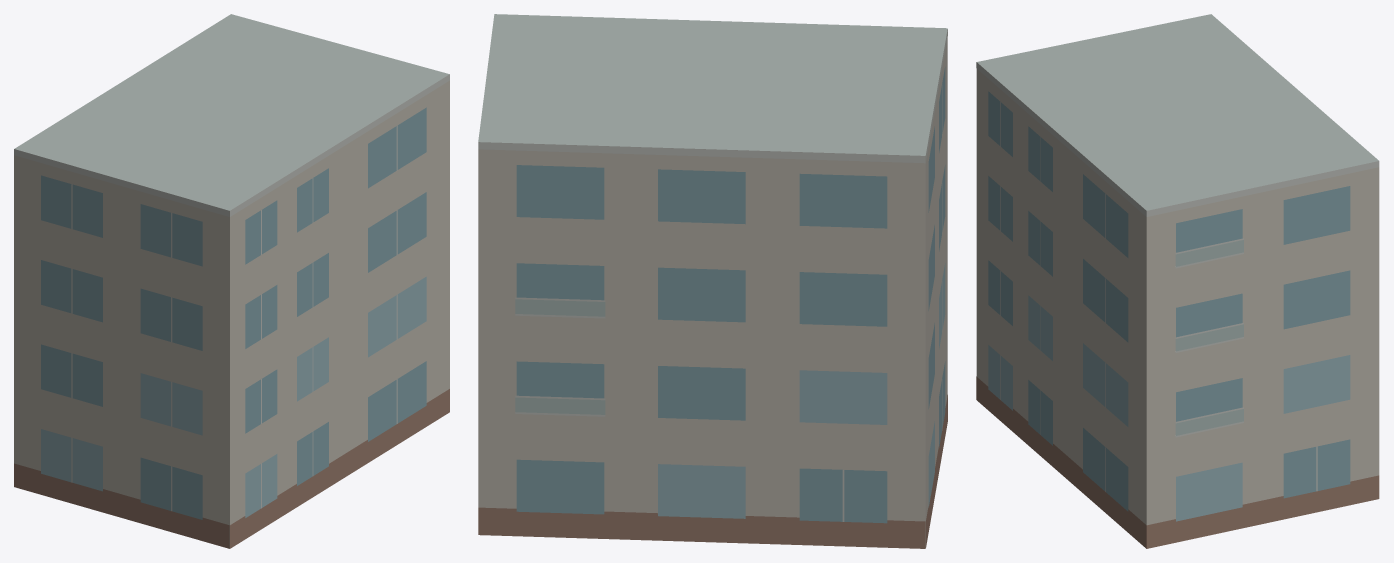
File: survey-upis-32738582.glb
3 renders of one model, left to right at view 1: azimuth 30°, elevation 25°; view 2: azimuth 150°, elevation 25°; view 3: azimuth 270°, elevation 25°, orthographic. The views are drawn at different scales.
Visible parts, largest first — view 1: survey-upis-32738582.tmp; view 2: survey-upis-32738582.tmp; view 3: survey-upis-32738582.tmp.
Part boxes in pixels (x1,y1,x2,y2): survey-upis-32738582.tmp: (14,14,449,548); survey-upis-32738582.tmp: (478,14,947,548); survey-upis-32738582.tmp: (976,14,1379,548).
Bounding box in the file's own units: 16.5 × 13.2 × 14.26.
